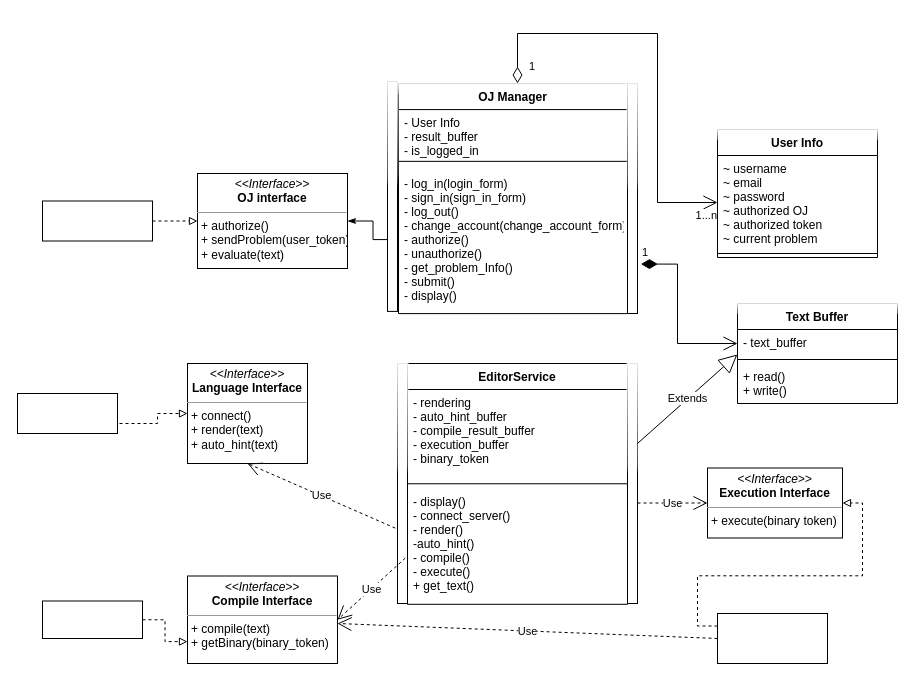
Image size: 915x681. Some labels were removed from this diagram. The shapes that lost their labels are listed below. From the top down, each one's centre as x and y in pixels, then its label:
At pixel 97 220: "OJ Adaptor".
At pixel 67 413: "Language Service".
At pixel 92 619: "Compiler Service".
At pixel 772 638: "Executor".
